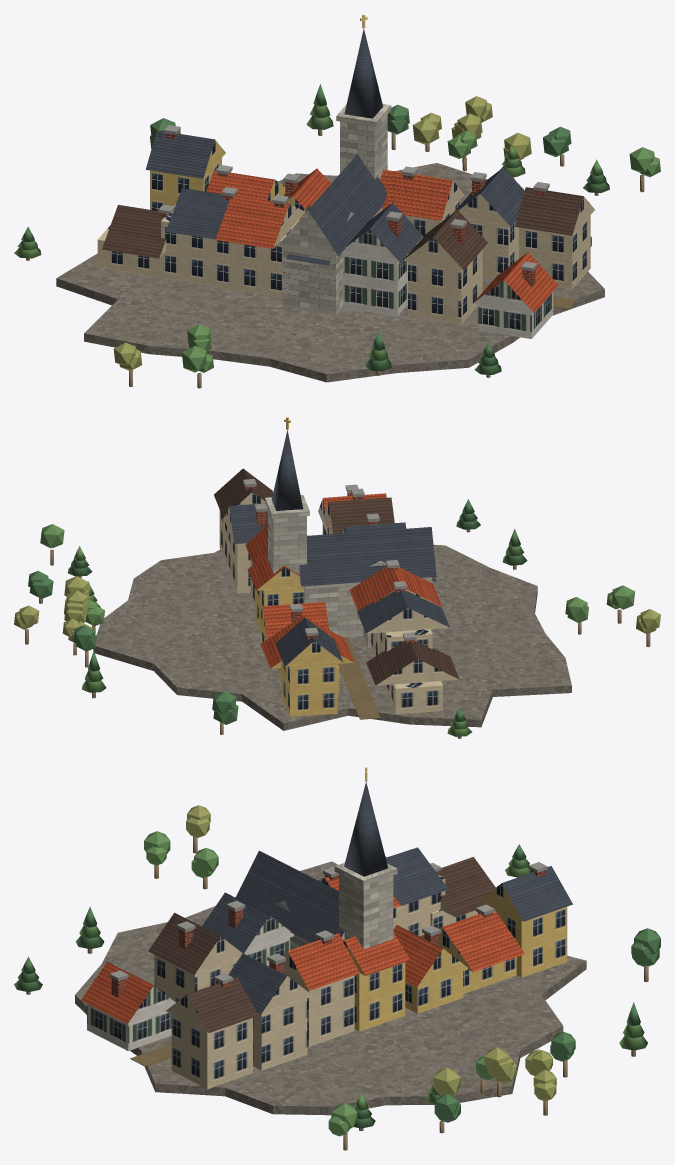
The model's file is city_west_town.glb.
3 views of the same model, one above another, from view 1: azimuth 30°, elevation 25°; view 2: azimuth 150°, elevation 25°; view 3: azimuth 270°, elevation 25° (orthographic). The views are drawn at different scales.
Parts seen in each view (by area): view 1: city_west_town; view 2: city_west_town; view 3: city_west_town.
Part boxes in pixels (x1,y1,x2,y2): city_west_town: (14, 14, 660, 388); city_west_town: (14, 417, 660, 738); city_west_town: (14, 767, 660, 1150).
Size of the model in its own units: 2.48 by 0.94 by 2.18.
Materials: 16 (11 with a texture image).
